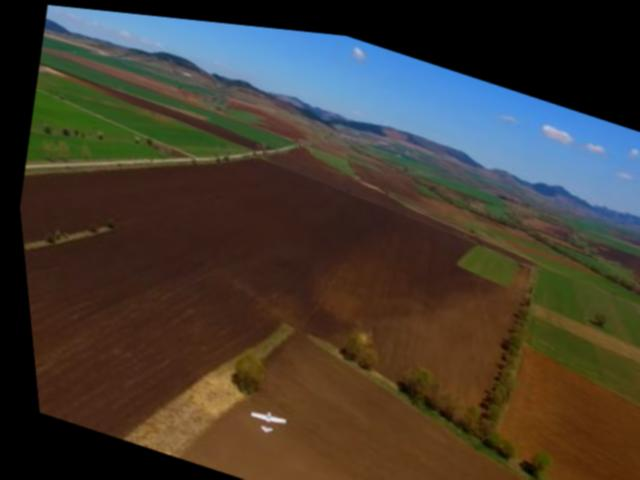uav: (231, 391, 287, 441)
